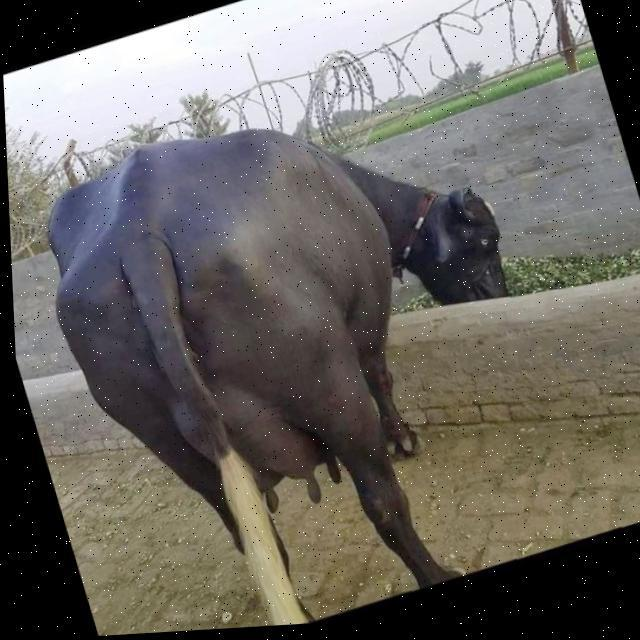Buffalo: (10, 40, 594, 640)
